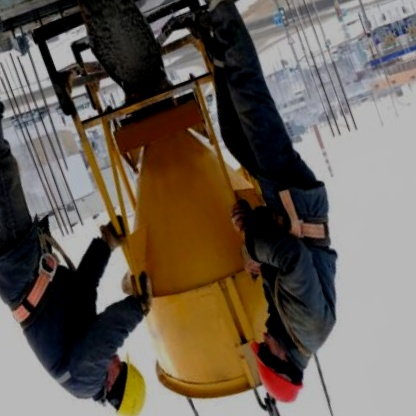red: (240, 330, 315, 416)
yellow: (94, 345, 169, 416)
